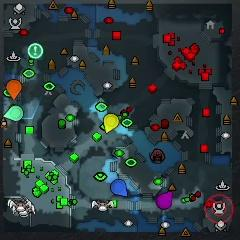Other: (28, 43, 43, 59)
p1: (110, 179, 128, 197)
p2: (4, 105, 23, 122)
p3: (156, 191, 172, 209)
p4: (104, 113, 119, 133)
p5: (6, 79, 22, 100)
